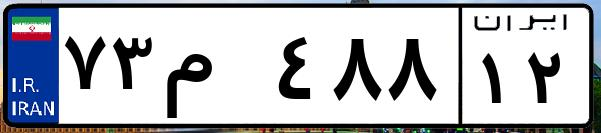1: (475, 38, 525, 113)
2: (525, 38, 570, 115)
3: (110, 28, 158, 98)
4: (270, 28, 330, 110)
7: (57, 26, 110, 100)
8: (385, 28, 445, 110), (330, 28, 385, 110)
م: (158, 20, 270, 120)
